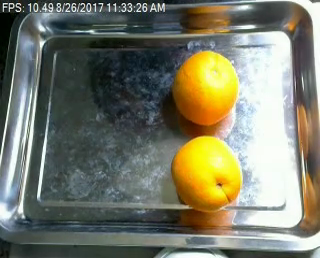Orange: (173, 135, 243, 212), (173, 50, 238, 124)
